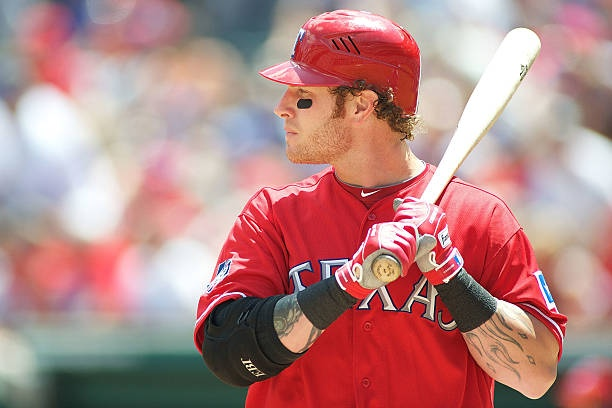bita: (387, 26, 541, 277)
